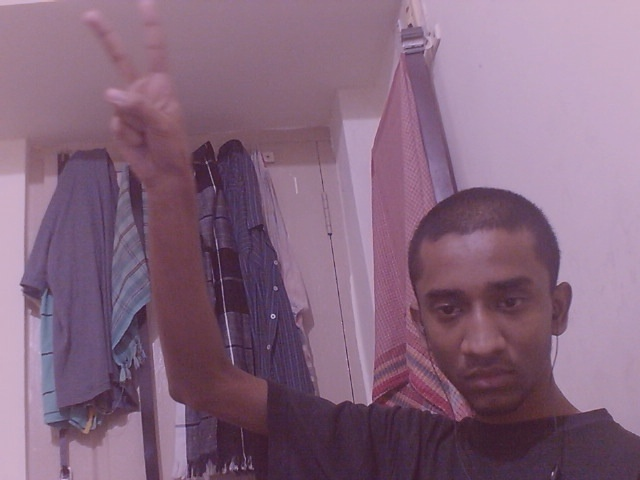hand: (74, 1, 200, 195)
